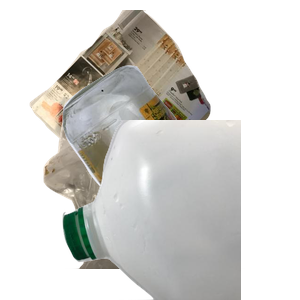glass: (60, 63, 300, 243)
paper: (27, 10, 230, 190)
plastic: (60, 120, 300, 300)
trash: (41, 120, 276, 300)
